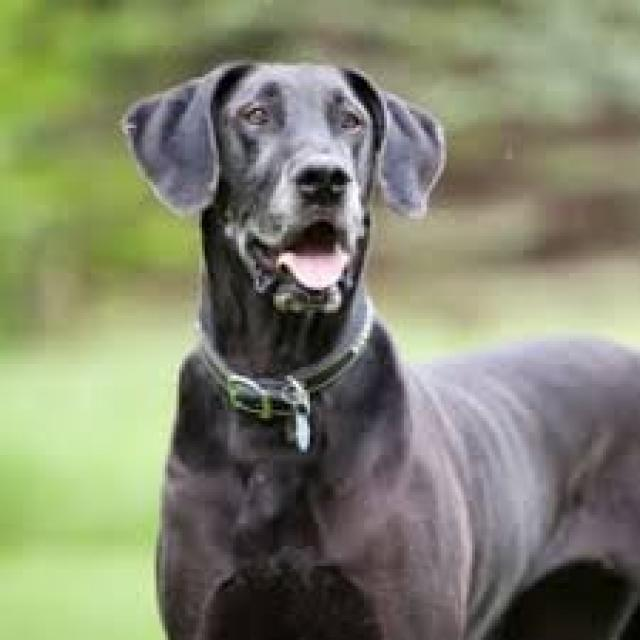Dog: (117, 59, 640, 640)
